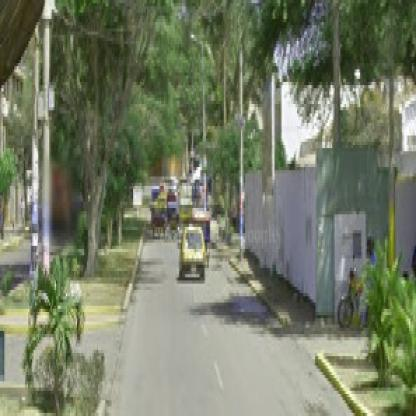Pista: (2, 196, 357, 416)
Vehiculo: (180, 225, 208, 285), (152, 203, 168, 241)
